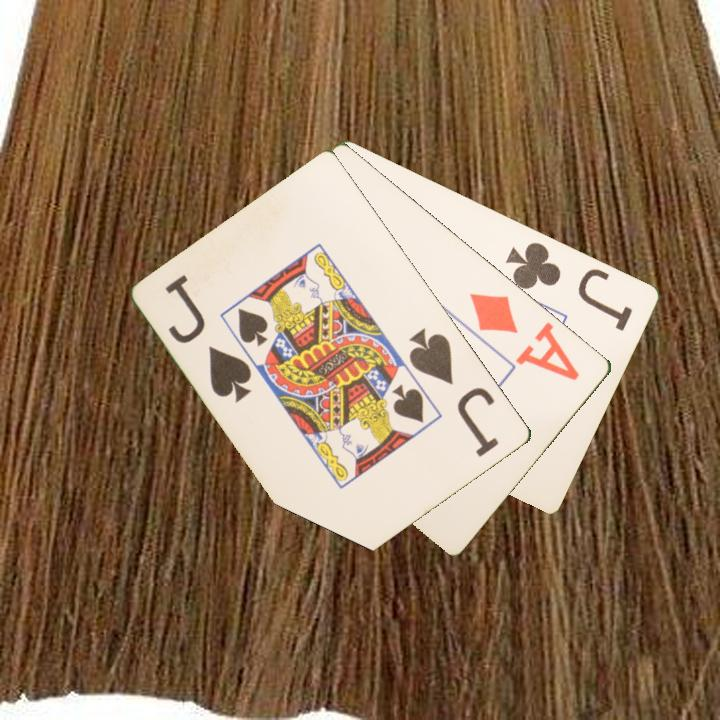Ad: (466, 289, 583, 384)
Jc: (503, 238, 636, 334)
Js: (405, 324, 503, 460), (162, 270, 256, 406)
